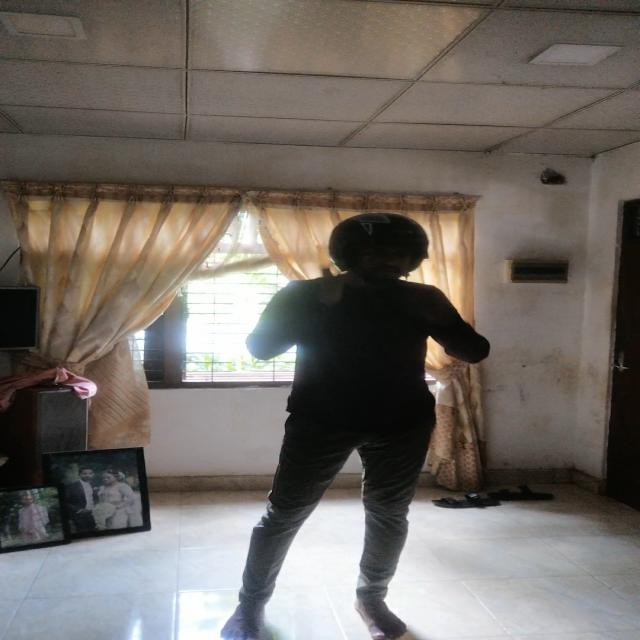Helmet_Wearer: (316, 216, 444, 290)
Person: (221, 202, 455, 640)
